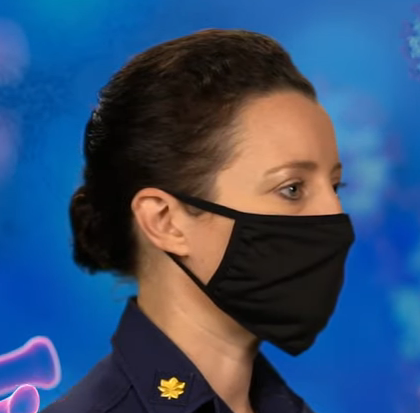with_mask: (118, 85, 367, 360)
